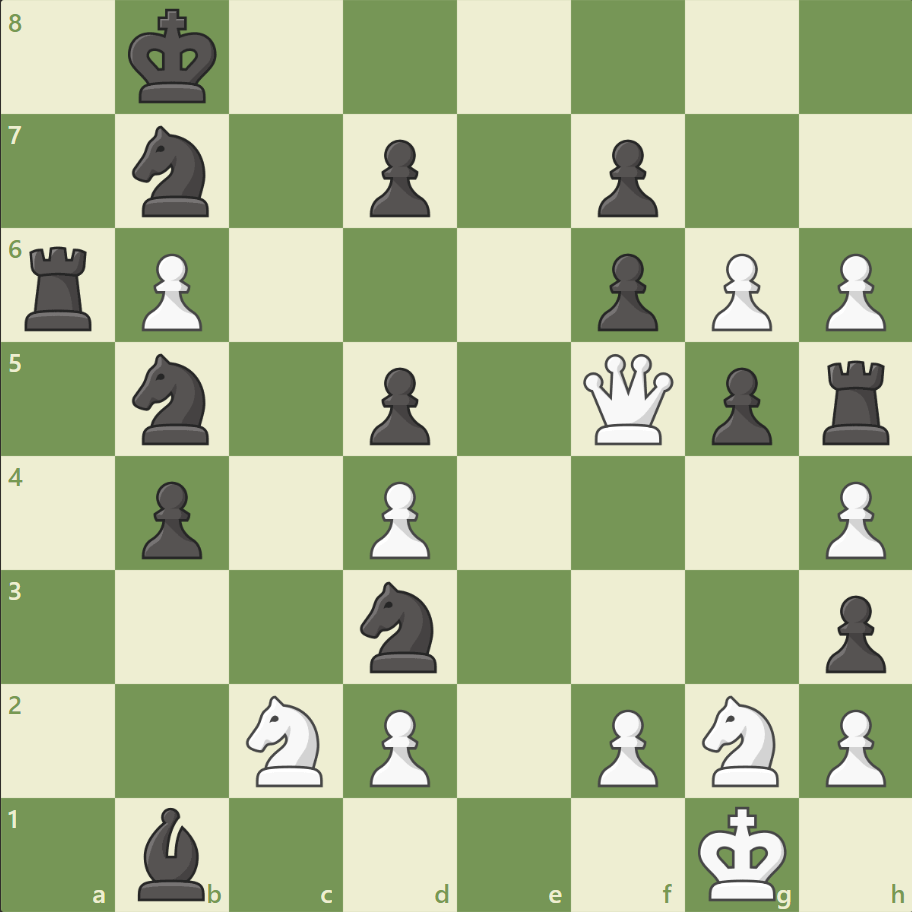K: (692, 798, 792, 906)
N: (238, 688, 335, 791), (692, 688, 789, 791)
P: (133, 246, 208, 337), (701, 246, 776, 337), (815, 246, 889, 337), (361, 473, 435, 564), (815, 473, 889, 564), (361, 700, 435, 791), (588, 700, 662, 791), (815, 700, 889, 791)
Q: (578, 349, 677, 449)
b: (131, 801, 215, 904)
k: (124, 4, 224, 112)
n: (124, 121, 222, 223), (124, 348, 222, 450), (351, 575, 449, 677)
p: (701, 359, 776, 450), (133, 473, 208, 564), (361, 132, 435, 223), (588, 132, 662, 223), (588, 246, 662, 337), (361, 359, 435, 450), (815, 586, 889, 677)
r: (19, 239, 102, 336), (814, 352, 897, 449)
